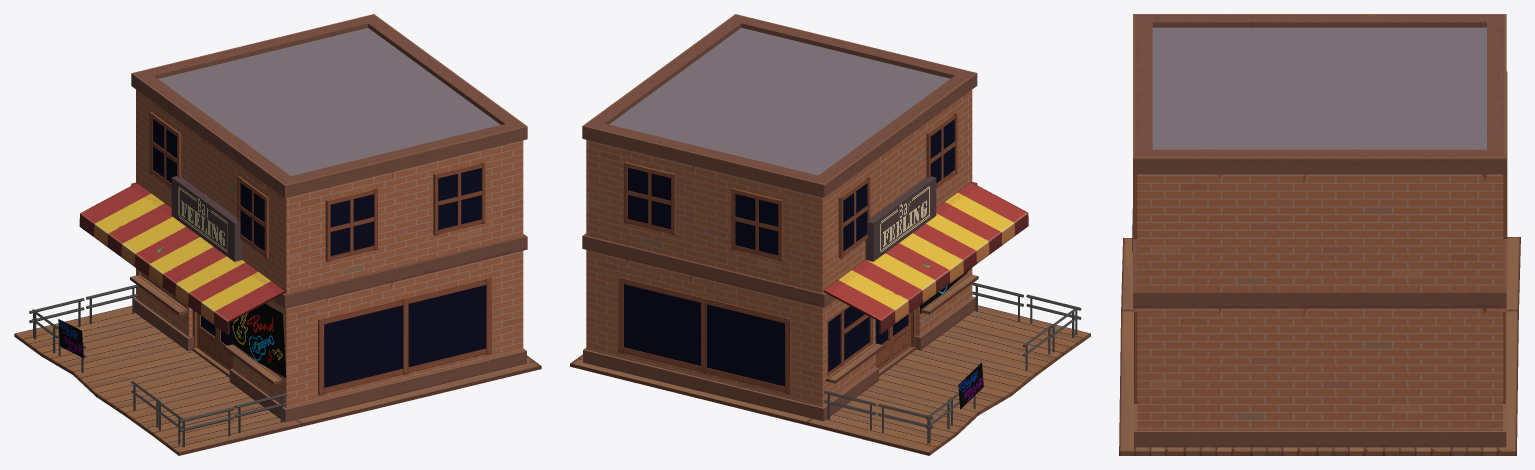
The model's file is Pixel_Build_009.fbx.
3 renders of one model, left to right at view 1: azimuth 30°, elevation 25°; view 2: azimuth 150°, elevation 25°; view 3: azimuth 270°, elevation 25°, orthographic. The views are drawn at different scales.
Visible parts, largest first — view 1: Pixel_Build_009; view 2: Pixel_Build_009; view 3: Pixel_Build_009.
Part boxes in pixels (x1,y1,x2,y2): Pixel_Build_009: (14, 14, 541, 455); Pixel_Build_009: (570, 14, 1090, 455); Pixel_Build_009: (1119, 14, 1520, 455).
Bounding box in the file's own units: 1286 × 815 × 1014.
